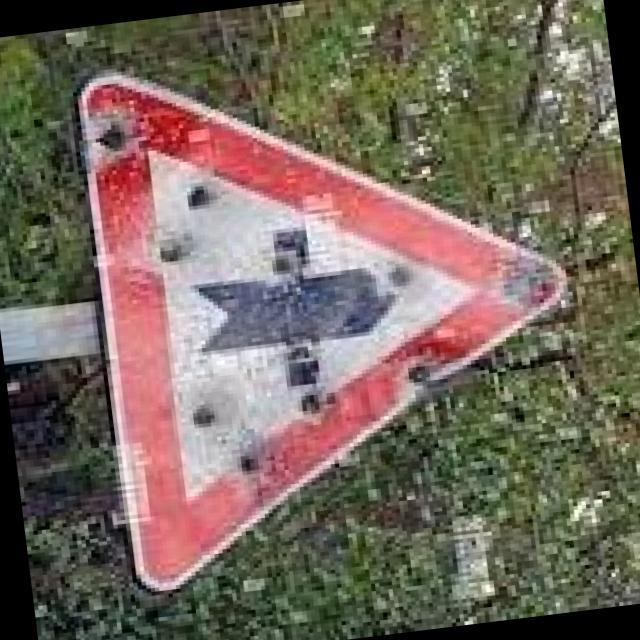obstructed_road_sign: (78, 73, 589, 589)
